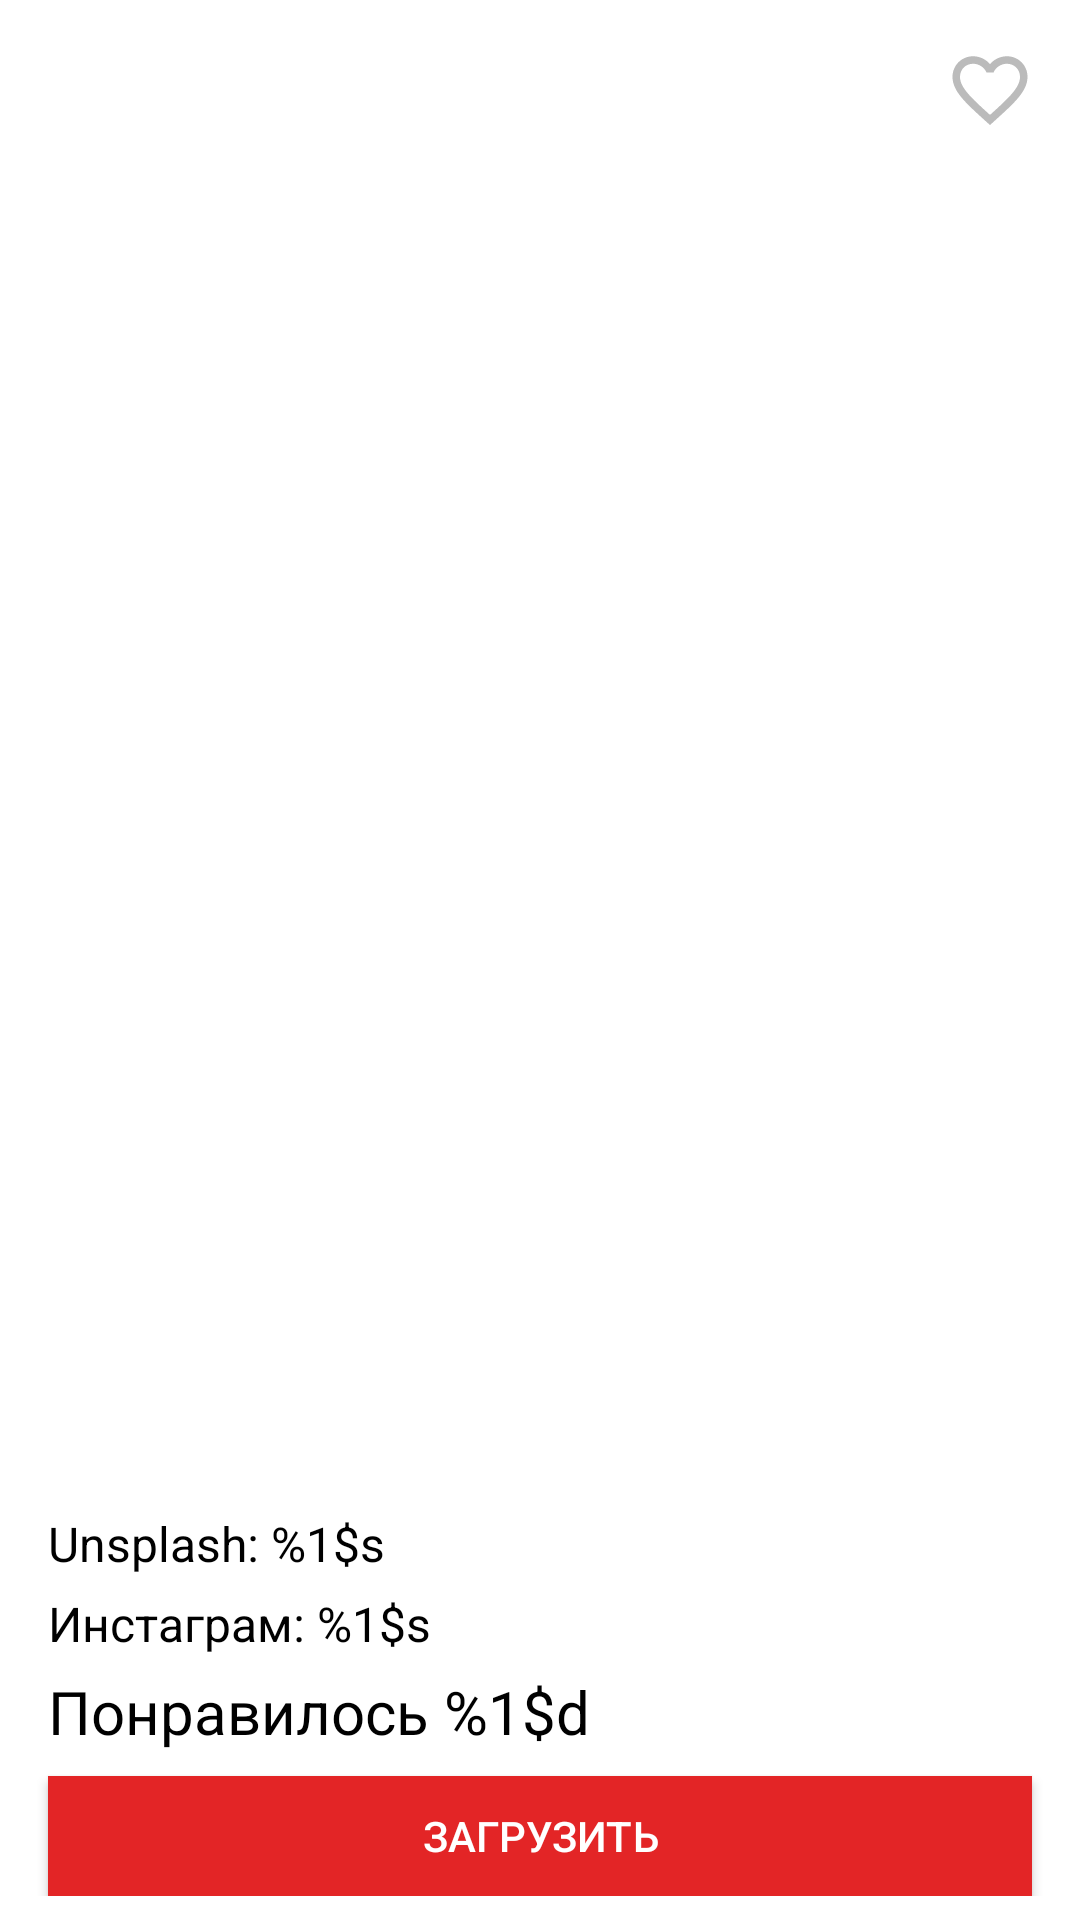

Icons on this 1080x1920 Android screen, each with its box as (x1, y1, x2, y2):
fav card: (952, 56, 1028, 125)
